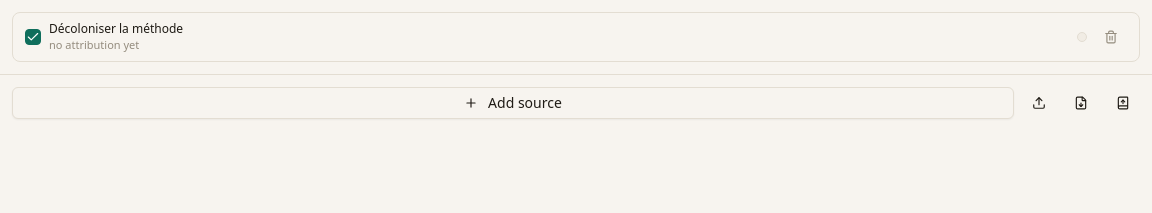
Test: source metadata editing and reporting (B18) › reports imported and duplicate/merge counts from a real import
The image size is (1152, 213).
What coordinates should you click on to do the following:
click the button named "Import bibliography"
I would click on:
 (1081, 103)
Its box is [1064,87,1098,119].
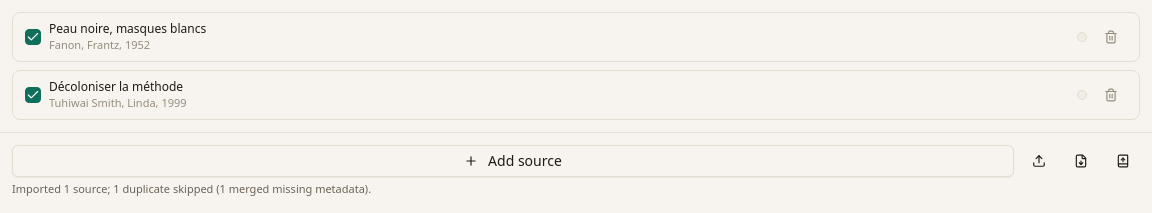
expect the message shows "Imported 1 source": met, box [12,181,371,196]
expect the message shows "1 duplicate skipped": met, box [12,181,371,196]
expect the message shows "1 merged missing metadata": met, box [12,181,371,196]
